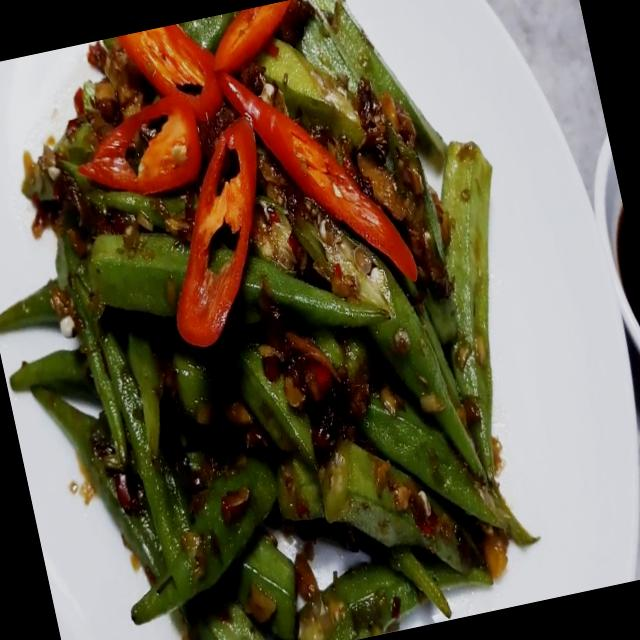dau bap: (12, 142, 537, 640)
ot: (79, 0, 416, 346)
